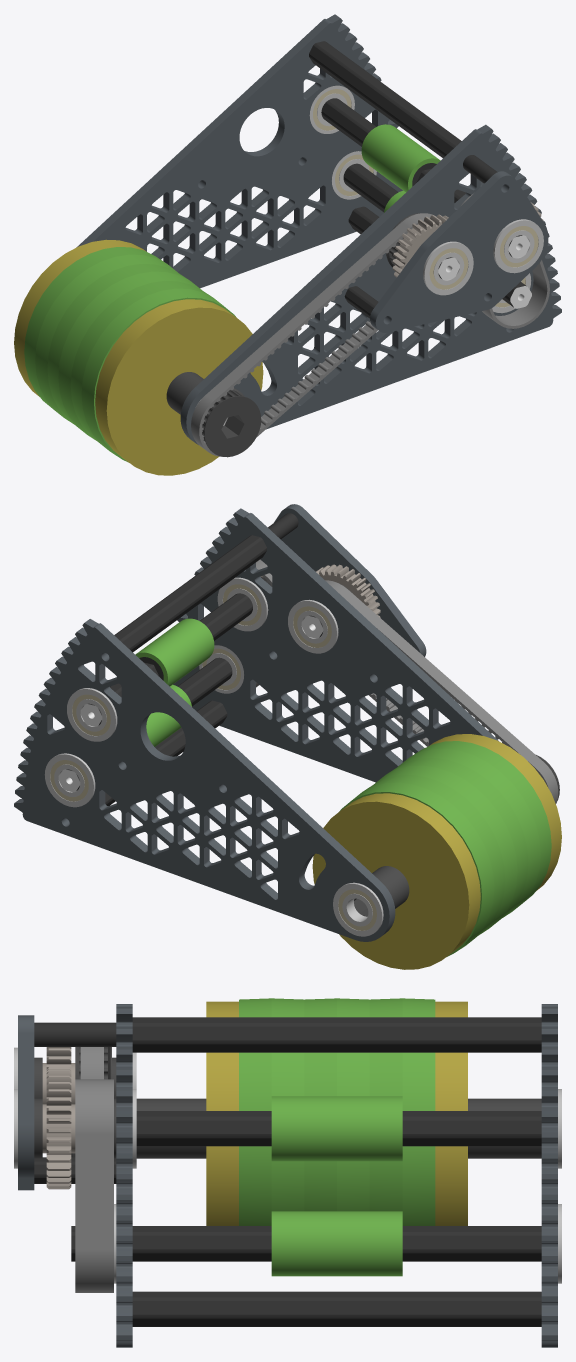
3 views of the same model, one above another, from view 1: azimuth 30°, elevation 25°; view 2: azimuth 150°, elevation 25°; view 3: azimuth 270°, elevation 25° (orthographic). The views are drawn at different scales.
Parts seen in each view (by area): view 1: Spur gear (170 teeth) (×2), Part 1 (×2), 4" Stealth Wheel (35A, 1/2" Hex Bore) (×3), 0.25 in. Thick Plate, 80T HTD Belt, 1/2" Rounded Hex (13.75mm) ID Bearing (1.125" OD, 0.313" WD, (×4), 1/2" Rounded Hex (6.25" L, 13.75mm OD), Sushi Roller (35A, 1/2" Hex Bore) (×2), 22T HTD Custom Pulley, 1/2" Rounded Hex (8.375" L, 13.75mm OD), 1/2" Rounded Hex (7.5" L, 13.75mm OD), 40T HTD Belt (+3 smaller); view 2: Spur gear (170 teeth) (×2), Part 1 (×2), 4" Stealth Wheel (35A, 1/2" Hex Bore) (×3), 1/2" Rounded Hex (13.75mm) ID Bearing (1.125" OD, 0.313" WD, (×6), 1/2" Rounded Hex (6.25" L, 13.75mm OD) (×2), 0.25 in. Thick Plate, 80T HTD Belt, Sushi Roller (35A, 1/2" Hex Bore) (×3), 1/2" Rounded Hex (8.375" L, 13.75mm OD), 1/2" Rounded Hex (7.5" L, 13.75mm OD), 35t Pocketed Aluminum Spur Gear (20 DP, 1/2" Hex Bore), 1.125 in. Hex Spacer; view 3: 1/2" Rounded Hex (6.25" L, 13.75mm OD) (×2), 4" Stealth Wheel (35A, 1/2" Hex Bore) (×3), Sushi Roller (35A, 1/2" Hex Bore) (×4), Spur gear (170 teeth) (×2), Part 1 (×2), 1/2" Rounded Hex (7.5" L, 13.75mm OD), 1/2" Rounded Hex (8.375" L, 13.75mm OD), 40T HTD Belt, 35t Pocketed Aluminum Spur Gear (20 DP, 1/2" Hex Bore) (×2), 1.125 in. Hex Spacer (×2), 0.25 in. Thick Plate, #10 Aluminum Spacer (1-1/4" L, 3/8" OD) (+4 smaller).
Part boxes in pixels (left/top/right/bottom): Spur gear (170 teeth) (×2): left=76, top=14, right=561, bottom=444; Part 1 (×2): left=14, top=239, right=263, bottom=475; 4" Stealth Wheel (35A, 1/2" Hex Bore) (×3): left=24, top=247, right=236, bottom=462; 0.25 in. Thick Plate: left=370, top=171, right=548, bottom=332; 80T HTD Belt: left=191, top=213, right=436, bottom=456; 1/2" Rounded Hex (13.75mm) ID Bearing (1.125" OD, 0.313" WD, (×4): left=309, top=85, right=543, bottom=295; 1/2" Rounded Hex (6.25" L, 13.75mm OD): left=309, top=41, right=461, bottom=157; Sushi Roller (35A, 1/2" Hex Bore) (×2): left=361, top=124, right=440, bottom=192; 22T HTD Custom Pulley: left=202, top=388, right=261, bottom=457; 1/2" Rounded Hex (8.375" L, 13.75mm OD): left=321, top=98, right=530, bottom=258; 1/2" Rounded Hex (7.5" L, 13.75mm OD): left=343, top=163, right=531, bottom=308; 40T HTD Belt: left=461, top=193, right=549, bottom=328; Spur gear (170 teeth) (×2): left=14, top=508, right=498, bottom=941; Part 1 (×2): left=312, top=734, right=561, bottom=969; 4" Stealth Wheel (35A, 1/2" Hex Bore) (×3): left=339, top=741, right=551, bottom=956; 1/2" Rounded Hex (13.75mm) ID Bearing (1.125" OD, 0.313" WD, (×6): left=44, top=577, right=383, bottom=936; 1/2" Rounded Hex (6.25" L, 13.75mm OD) (×2): left=105, top=535, right=266, bottom=805; 0.25 in. Thick Plate: left=274, top=504, right=426, bottom=656; 80T HTD Belt: left=325, top=580, right=558, bottom=803; Sushi Roller (35A, 1/2" Hex Bore) (×3): left=135, top=618, right=214, bottom=746; 1/2" Rounded Hex (8.375" L, 13.75mm OD): left=80, top=577, right=271, bottom=726; 1/2" Rounded Hex (7.5" L, 13.75mm OD): left=58, top=657, right=232, bottom=792; 35t Pocketed Aluminum Spur Gear (20 DP, 1/2" Hex Bore): left=316, top=564, right=380, bottom=617; 1.125 in. Hex Spacer: left=354, top=866, right=409, bottom=916; 1/2" Rounded Hex (6.25" L, 13.75mm OD) (×2): left=132, top=1017, right=541, bottom=1326; 4" Stealth Wheel (35A, 1/2" Hex Bore) (×3): left=239, top=998, right=435, bottom=1225; Sushi Roller (35A, 1/2" Hex Bore) (×4): left=271, top=1096, right=402, bottom=1276; Spur gear (170 teeth) (×2): left=116, top=1004, right=557, bottom=1347; Part 1 (×2): left=206, top=1001, right=467, bottom=1225; 1/2" Rounded Hex (7.5" L, 13.75mm OD): left=71, top=1226, right=541, bottom=1261; 1/2" Rounded Hex (8.375" L, 13.75mm OD): left=136, top=1111, right=541, bottom=1146; 40T HTD Belt: left=75, top=1079, right=113, bottom=1292; 35t Pocketed Aluminum Spur Gear (20 DP, 1/2" Hex Bore) (×2): left=42, top=1047, right=75, bottom=1189; 1.125 in. Hex Spacer (×2): left=136, top=1098, right=541, bottom=1158; 0.25 in. Thick Plate: left=18, top=1015, right=34, bottom=1190; #10 Aluminum Spacer (1-1/4" L, 3/8" OD): left=34, top=1022, right=116, bottom=1046.
Bounding box in the file's own units: 0.269 × 0.1833 × 0.2127.
